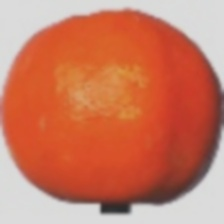tangerine: (8, 31, 204, 200)
